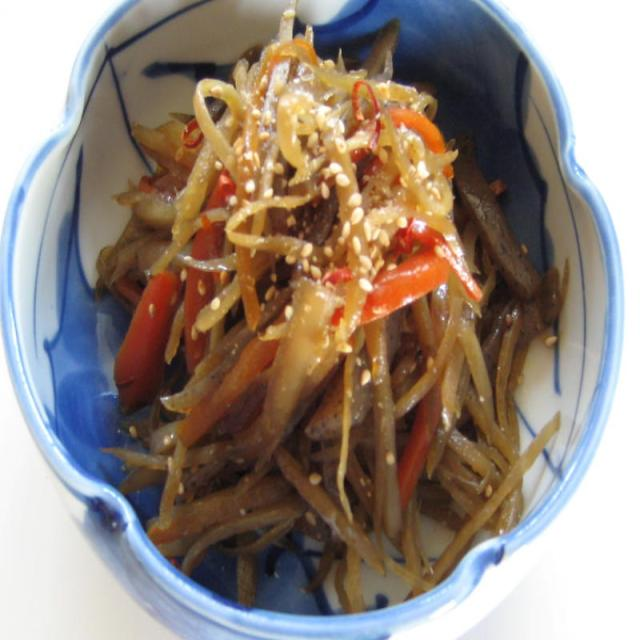蔬菜料理: (5, 17, 612, 604)
